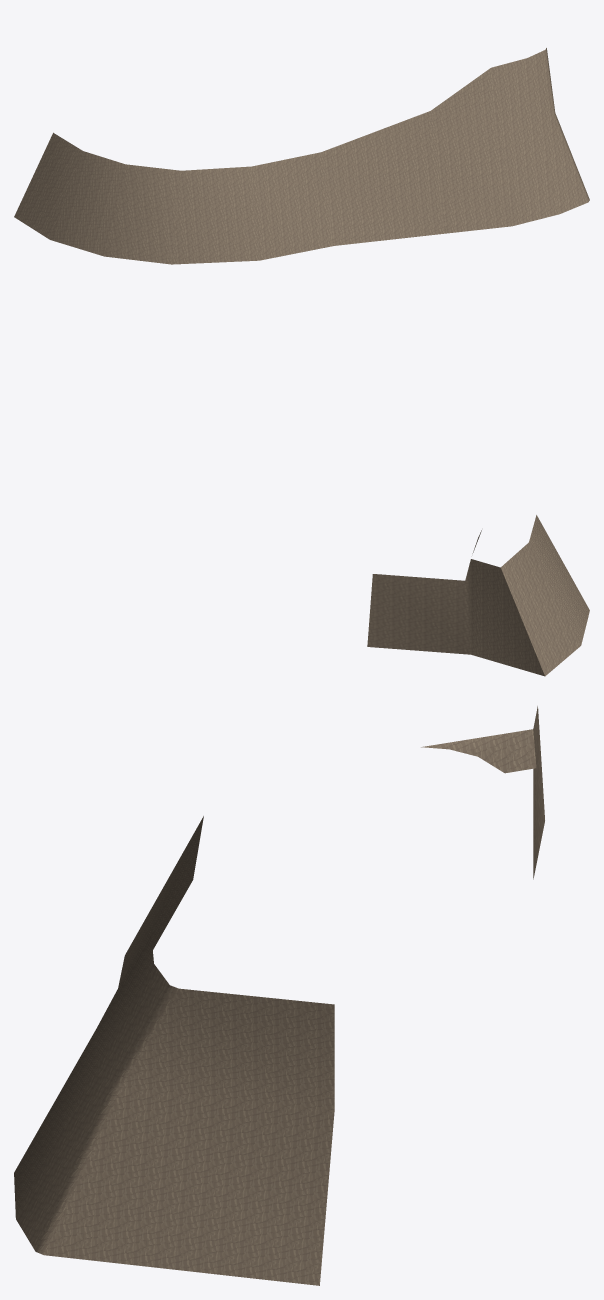
The model's file is kd_stage_136599_10_27_bounded.glb.
The picture shows the model from 3 angles, top to bottom: view 1: azimuth 30°, elevation 25°; view 2: azimuth 150°, elevation 25°; view 3: azimuth 270°, elevation 25°; orthographic projection. The views are drawn at different scales.
Visible parts, largest first — view 1: kd_stage_136599_10_27_bounded; view 2: kd_stage_136599_10_27_bounded; view 3: kd_stage_136599_10_27_bounded.
Part boxes in pixels (box(x1,y1,x2,y2)): kd_stage_136599_10_27_bounded: box(14, 48, 589, 264); kd_stage_136599_10_27_bounded: box(367, 515, 589, 676); kd_stage_136599_10_27_bounded: box(14, 706, 544, 1285).
Bounding box in the file's own units: 169 × 43.79 × 88.69.
Materials: 1 (1 with a texture image).
